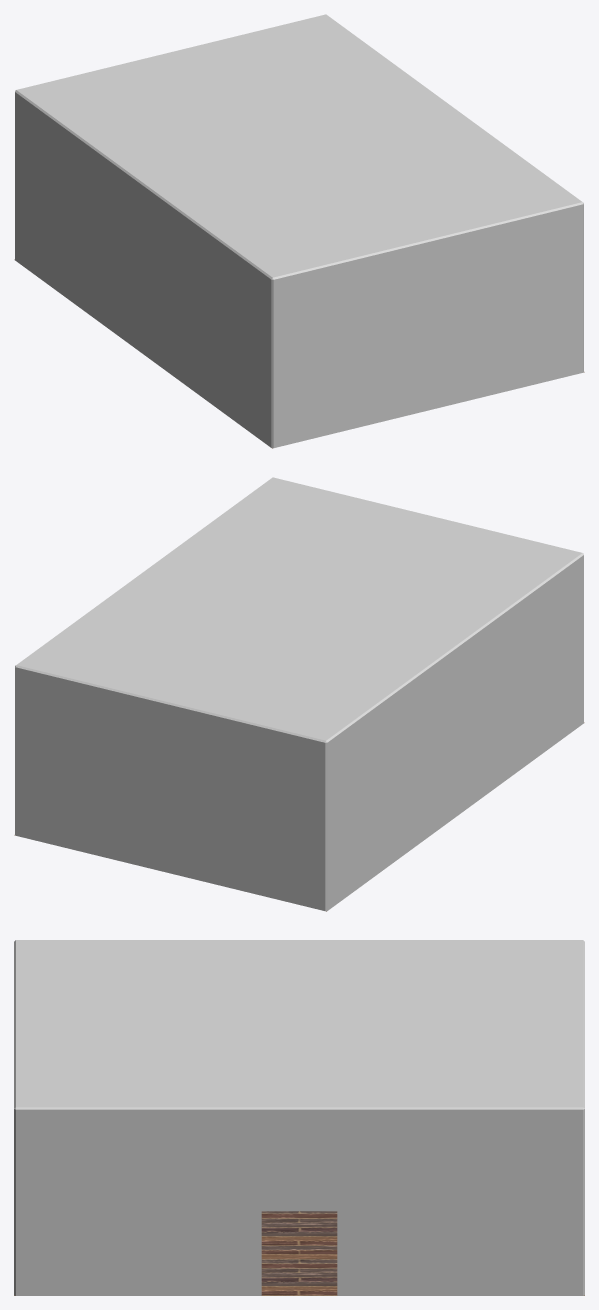
The model's file is Basement Room-1.fbx.
3 renders of one model, top to bottom at view 1: azimuth 30°, elevation 25°; view 2: azimuth 150°, elevation 25°; view 3: azimuth 270°, elevation 25°, orthographic. The views are drawn at different scales.
Parts seen in each view (by area): view 1: Basement Room-1; view 2: Basement Room-1; view 3: Basement Room-1.
Boxes of the visible parts, left/top/right/bottom form: Basement Room-1: left=14, top=14, right=584, bottom=448; Basement Room-1: left=14, top=477, right=584, bottom=911; Basement Room-1: left=14, top=940, right=584, bottom=1295.
Size of the model in its own units: 4.32 by 6.18 by 2.24.
